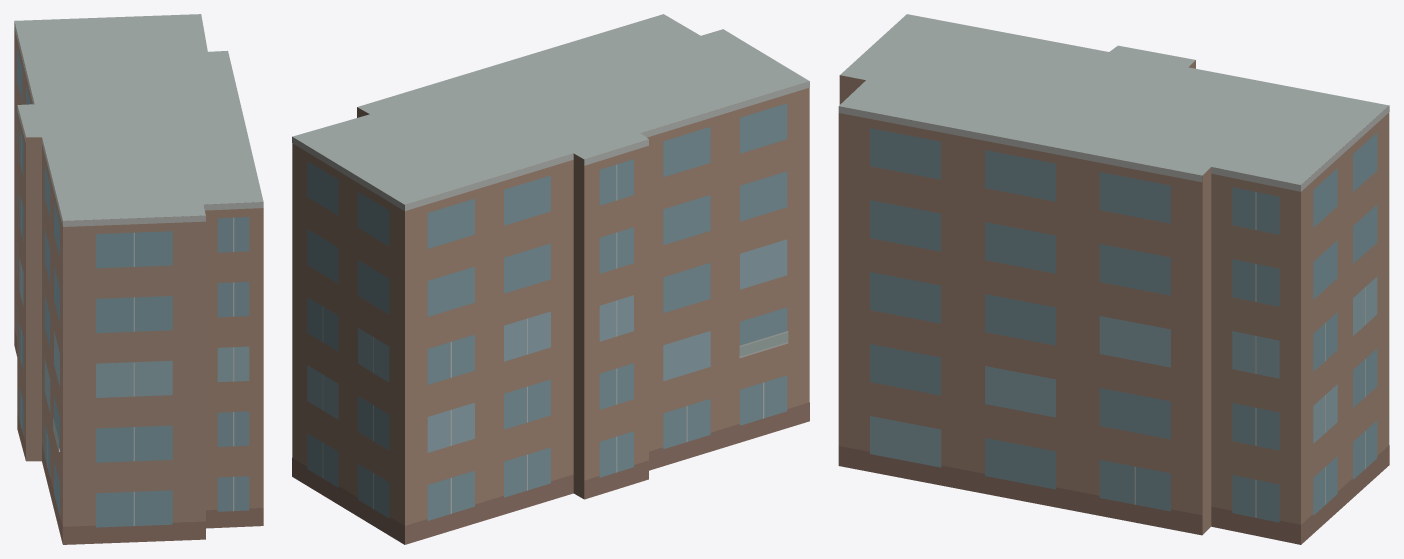
Rendered from survey-upis-32585735.glb.
3 views of the same model, side by side, from view 1: azimuth 30°, elevation 25°; view 2: azimuth 150°, elevation 25°; view 3: azimuth 270°, elevation 25° (orthographic). The views are drawn at different scales.
Visible parts, largest first — view 1: survey-upis-32585735.tmp; view 2: survey-upis-32585735.tmp; view 3: survey-upis-32585735.tmp.
Part boxes in pixels (bbox=[...]): survey-upis-32585735.tmp: bbox=[14, 14, 263, 544]; survey-upis-32585735.tmp: bbox=[292, 14, 809, 544]; survey-upis-32585735.tmp: bbox=[838, 14, 1389, 544].
Size of the model in its own units: 13.27 by 13 by 18.05.
